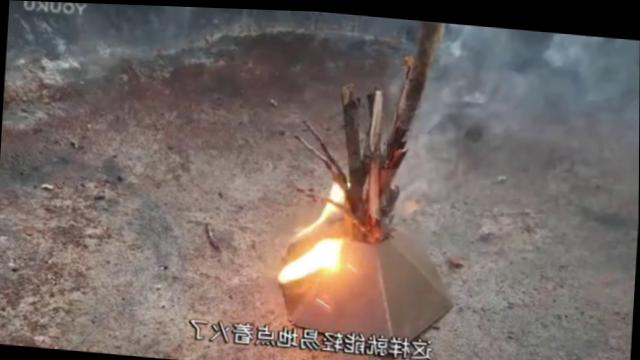fire: (280, 229, 342, 282), (328, 180, 348, 202), (317, 199, 337, 221)
